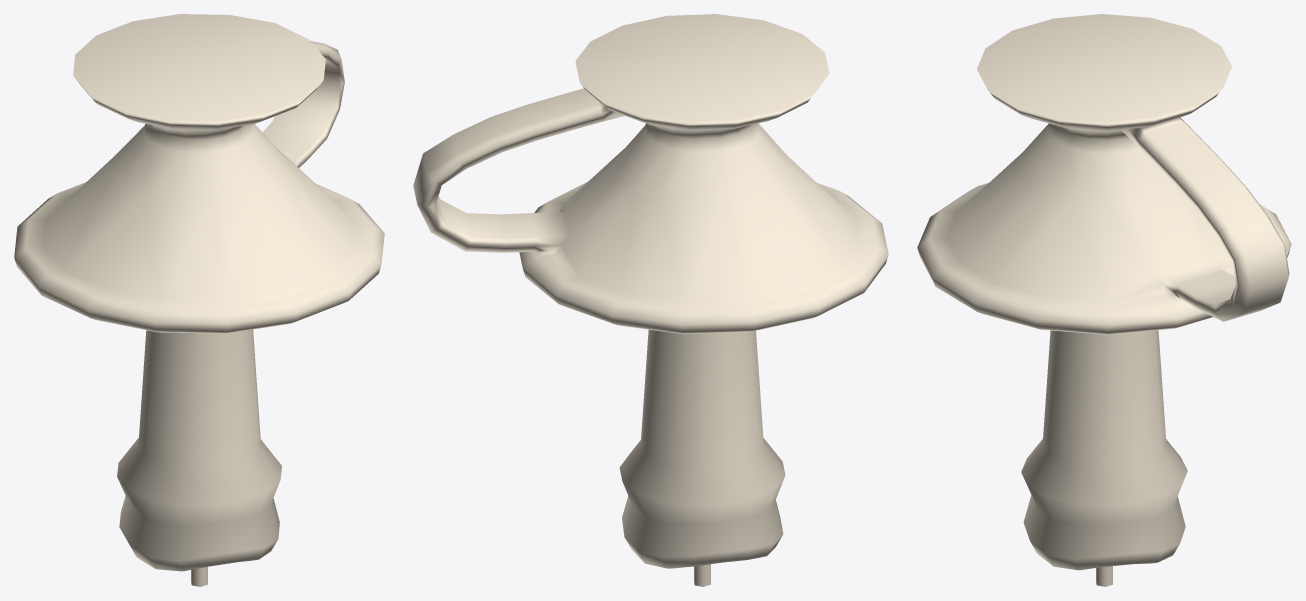
Rendered from candle.glb.
3 renders of one model, left to right at view 1: azimuth 30°, elevation 25°; view 2: azimuth 150°, elevation 25°; view 3: azimuth 270°, elevation 25°, orthographic.
Parts seen in each view (by area): view 1: FtrCandle_node2; view 2: FtrCandle_node2; view 3: FtrCandle_node2.
Part boxes in pixels (x1,y1,x2,y2): FtrCandle_node2: (14,14,384,586); FtrCandle_node2: (413,14,888,586); FtrCandle_node2: (917,14,1291,586).
Size of the model in its own units: 4.62 by 6.02 by 3.96.
